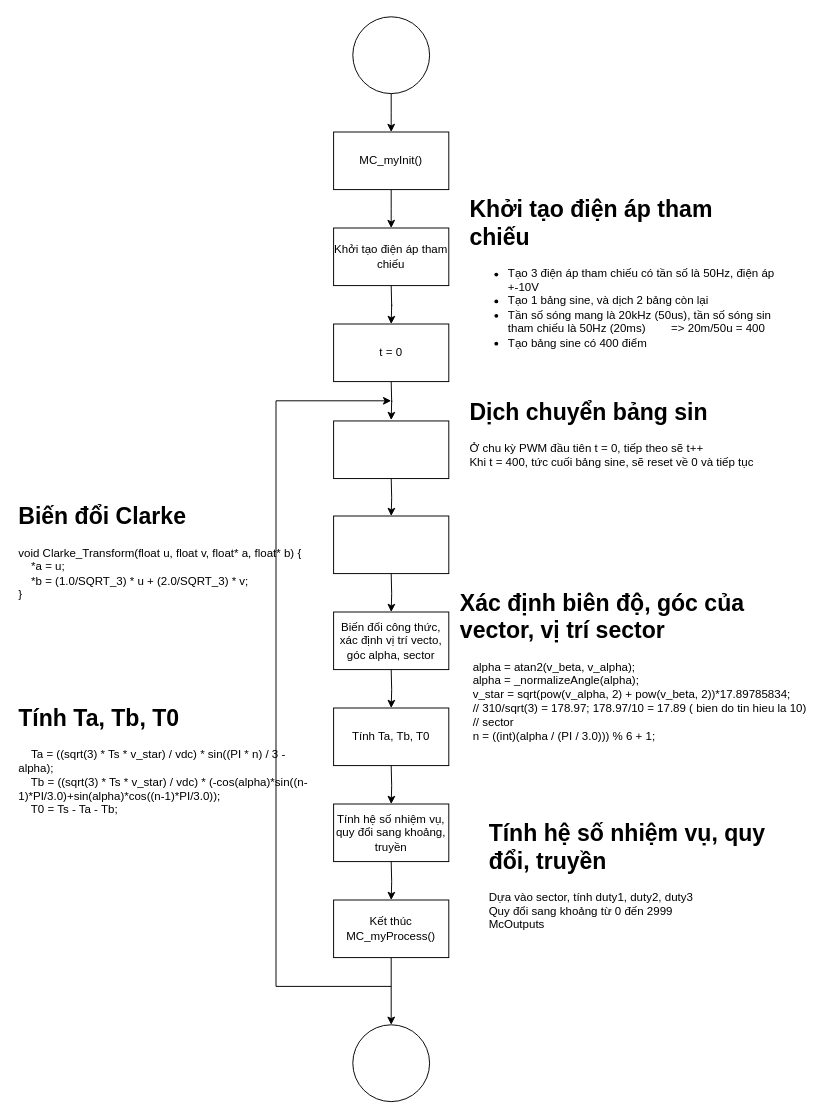
Image size: 839x1118. Some labels were removed from this diagram. Here are the shapes that lost their labels. From the top down, the centre of each, then its label:
the point at 391,55: Bắt đầu
the point at 391,449: MC_myProcess(), t++
the point at 391,544: Biến đổi toạ độ 3 pha thành 2 pha Clarke_Transform()
the point at 391,1063: Kết thúc
